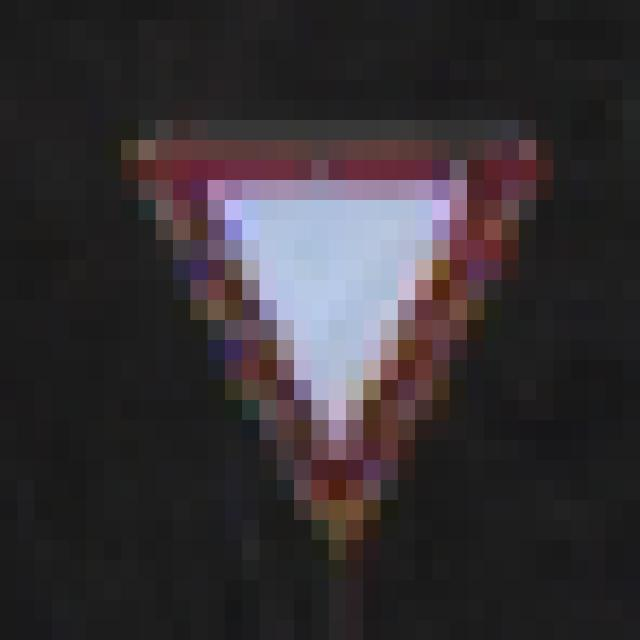Give Way: (105, 101, 554, 541)
